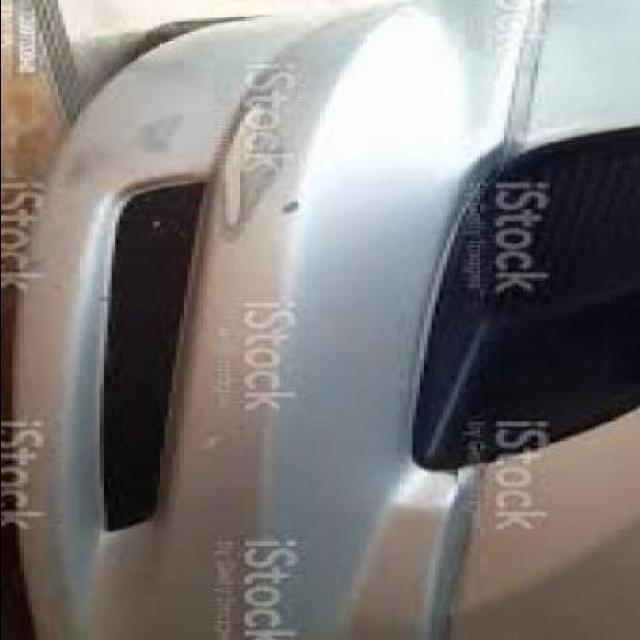front-bumper-scratch: (200, 67, 306, 251)
